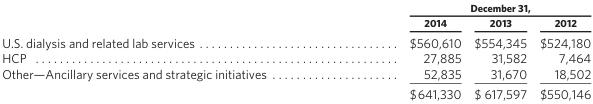table: (1, 0, 590, 101)
table column: (1, 0, 337, 101), (337, 0, 467, 101), (467, 0, 532, 101), (532, 0, 590, 101)
table column header: (1, 0, 590, 31)
table row: (1, 31, 590, 49), (1, 65, 590, 83), (1, 83, 590, 101), (1, 14, 590, 31), (1, 49, 590, 65), (1, 0, 590, 14)
table spanning cell: (337, 0, 590, 14)
